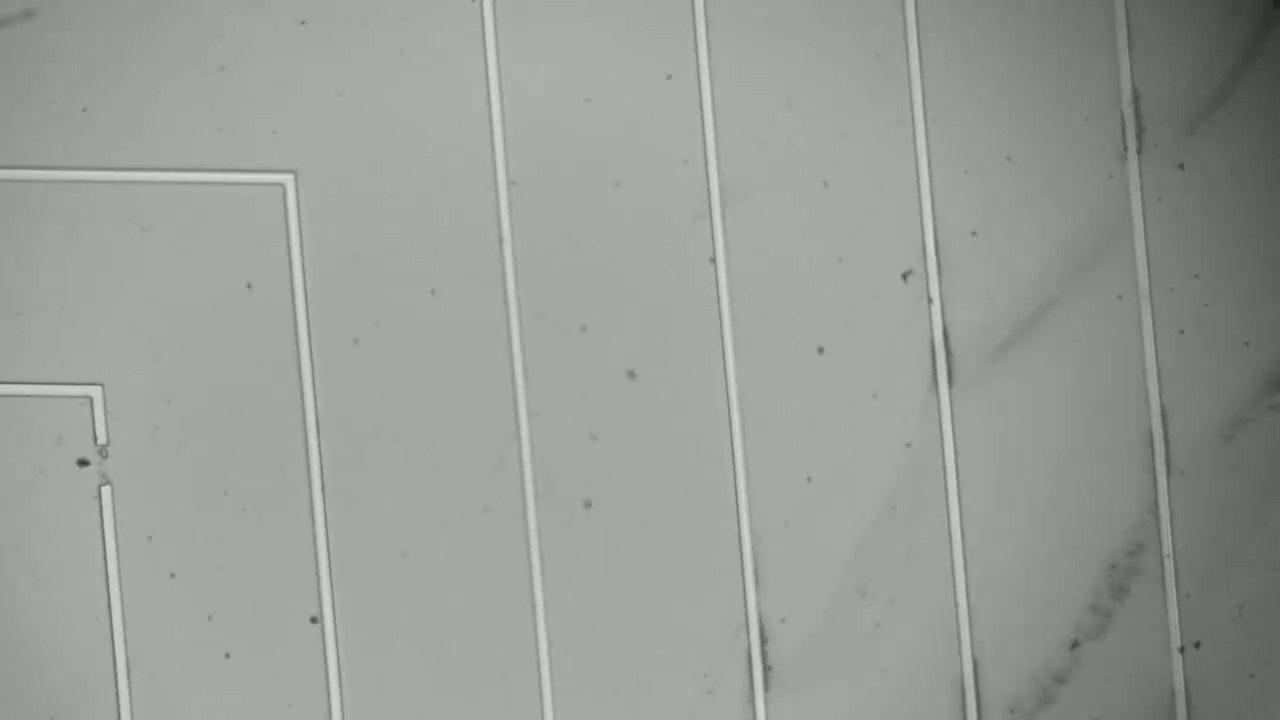open: (87, 430, 134, 508)
scratch: (995, 513, 1162, 712)
